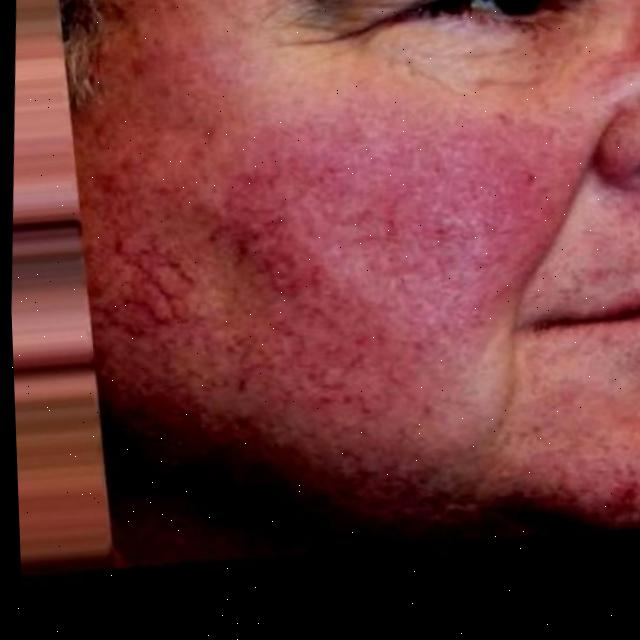Rosacea: (80, 44, 541, 487)
